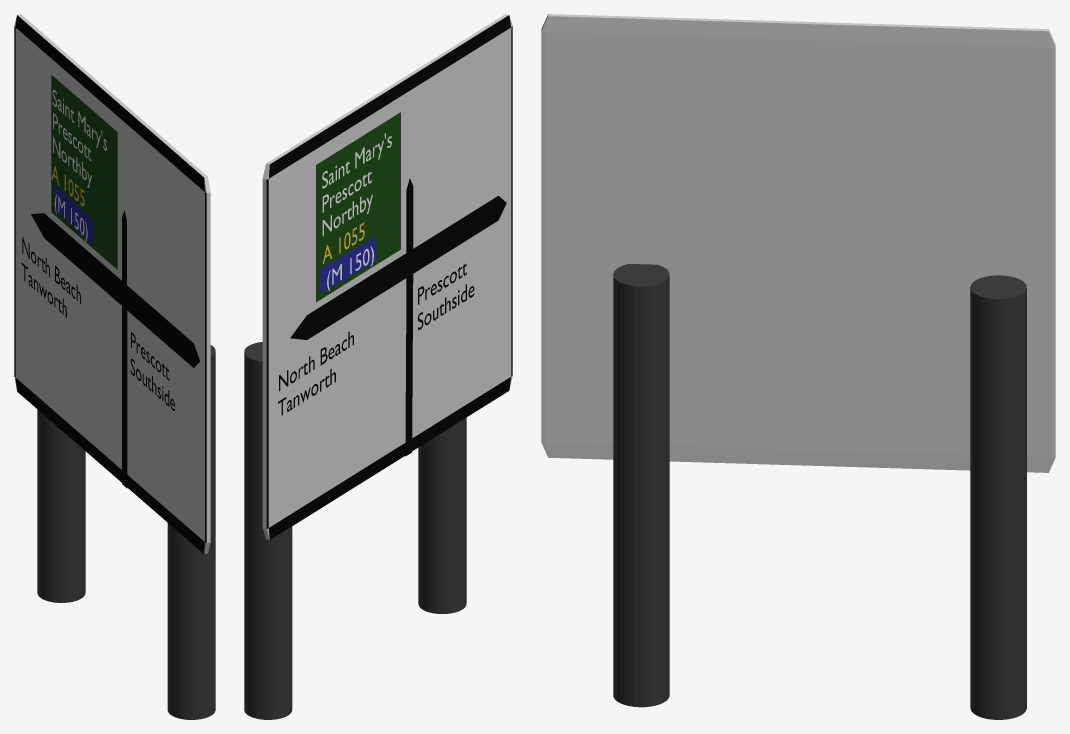
The model's file is HalifaxParkJunctionSign3.fbx.
3 renders of one model, left to right at view 1: azimuth 30°, elevation 25°; view 2: azimuth 150°, elevation 25°; view 3: azimuth 270°, elevation 25°, orthographic. The views are drawn at different scales.
Visible parts, largest first — view 1: Cube.030, Cylinder.001, Cylinder.002, Plane, DirectionPlaneM, Text.004, Plane.001, Text.001, Text.005; view 2: Cube.030, Cylinder.002, Plane, Cylinder.001, DirectionPlaneM, Plane.001, Text.004, Text.001; view 3: Cube.030, Cylinder.002, Cylinder.001.
Part boxes in pixels (<box>): Cube.030: <box>14,14,210,554</box>; Cylinder.001: <box>167,345,215,719</box>; Cylinder.002: <box>37,409,85,602</box>; Plane: <box>51,75,117,269</box>; DirectionPlaneM: <box>31,210,200,488</box>; Text.004: <box>52,89,106,188</box>; Plane.001: <box>54,185,93,245</box>; Text.001: <box>22,237,80,303</box>; Text.005: <box>130,358,174,410</box>; Cube.030: <box>262,14,512,540</box>; Cylinder.002: <box>244,342,292,719</box>; Plane: <box>316,112,400,302</box>; Cylinder.001: <box>418,417,466,613</box>; DirectionPlaneM: <box>290,178,506,456</box>; Plane.001: <box>320,237,375,293</box>; Text.004: <box>322,133,391,236</box>; Text.001: <box>279,331,353,391</box>; Cube.030: <box>541,14,1055,472</box>; Cylinder.002: <box>970,275,1026,719</box>; Cylinder.001: <box>613,264,669,707</box>.
Size of the model in its own units: 108 by 824 by 577.
